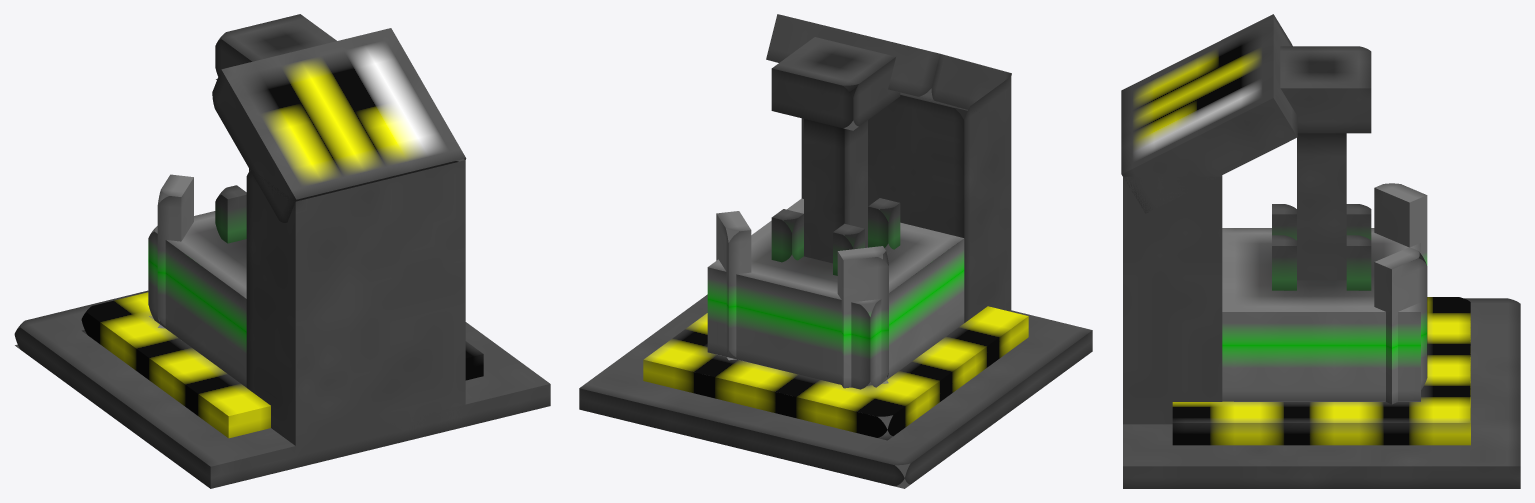
The model's file is gas_centrifuge.obj.
3 views of the same model, side by side, from view 1: azimuth 30°, elevation 25°; view 2: azimuth 150°, elevation 25°; view 3: azimuth 270°, elevation 25° (orthographic). The views are drawn at different scales.
Visible parts, largest first — view 1: G, H, A, D, B, I, F, KROT; view 2: A, D, G, B, I, C, H, F, E, JROT, MROT, KROT; view 3: A, D, G, H, B, I, C, E, F, JROT, LROT, KROT (+1 smaller).
Part boxes in pixels (bbox=[...]): G: bbox=[246, 159, 465, 467]; H: bbox=[212, 28, 466, 222]; A: bbox=[14, 290, 550, 488]; D: bbox=[148, 211, 246, 387]; B: bbox=[81, 292, 483, 438]; I: bbox=[215, 14, 336, 79]; F: bbox=[157, 174, 193, 328]; KROT: bbox=[215, 185, 246, 243]; A: bbox=[579, 294, 1092, 488]; D: bbox=[707, 198, 964, 389]; G: bbox=[801, 76, 1011, 322]; B: bbox=[643, 306, 1028, 440]; I: bbox=[771, 37, 900, 130]; C: bbox=[804, 84, 867, 263]; H: bbox=[766, 14, 1011, 111]; F: bbox=[837, 246, 888, 388]; E: bbox=[716, 211, 751, 360]; JROT: bbox=[771, 209, 803, 262]; MROT: bbox=[868, 198, 900, 253]; KROT: bbox=[833, 223, 864, 275]; A: bbox=[1123, 298, 1520, 488]; D: bbox=[1222, 228, 1420, 401]; G: bbox=[1123, 175, 1222, 424]; H: bbox=[1121, 14, 1297, 213]; B: bbox=[1172, 297, 1470, 445]; I: bbox=[1280, 46, 1371, 133]; C: bbox=[1297, 133, 1346, 280]; E: bbox=[1374, 247, 1427, 404]; F: bbox=[1374, 183, 1427, 265]; JROT: bbox=[1346, 235, 1371, 290]; LROT: bbox=[1272, 235, 1296, 290]; KROT: bbox=[1346, 204, 1371, 239].
Bounding box in the file's own units: 1 × 0.9687 × 1.
